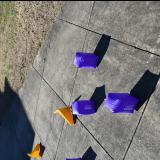cone: (54, 105, 74, 124), (27, 142, 41, 156)
cube: (104, 92, 140, 112), (73, 52, 100, 68), (72, 100, 96, 114), (64, 156, 82, 160)
